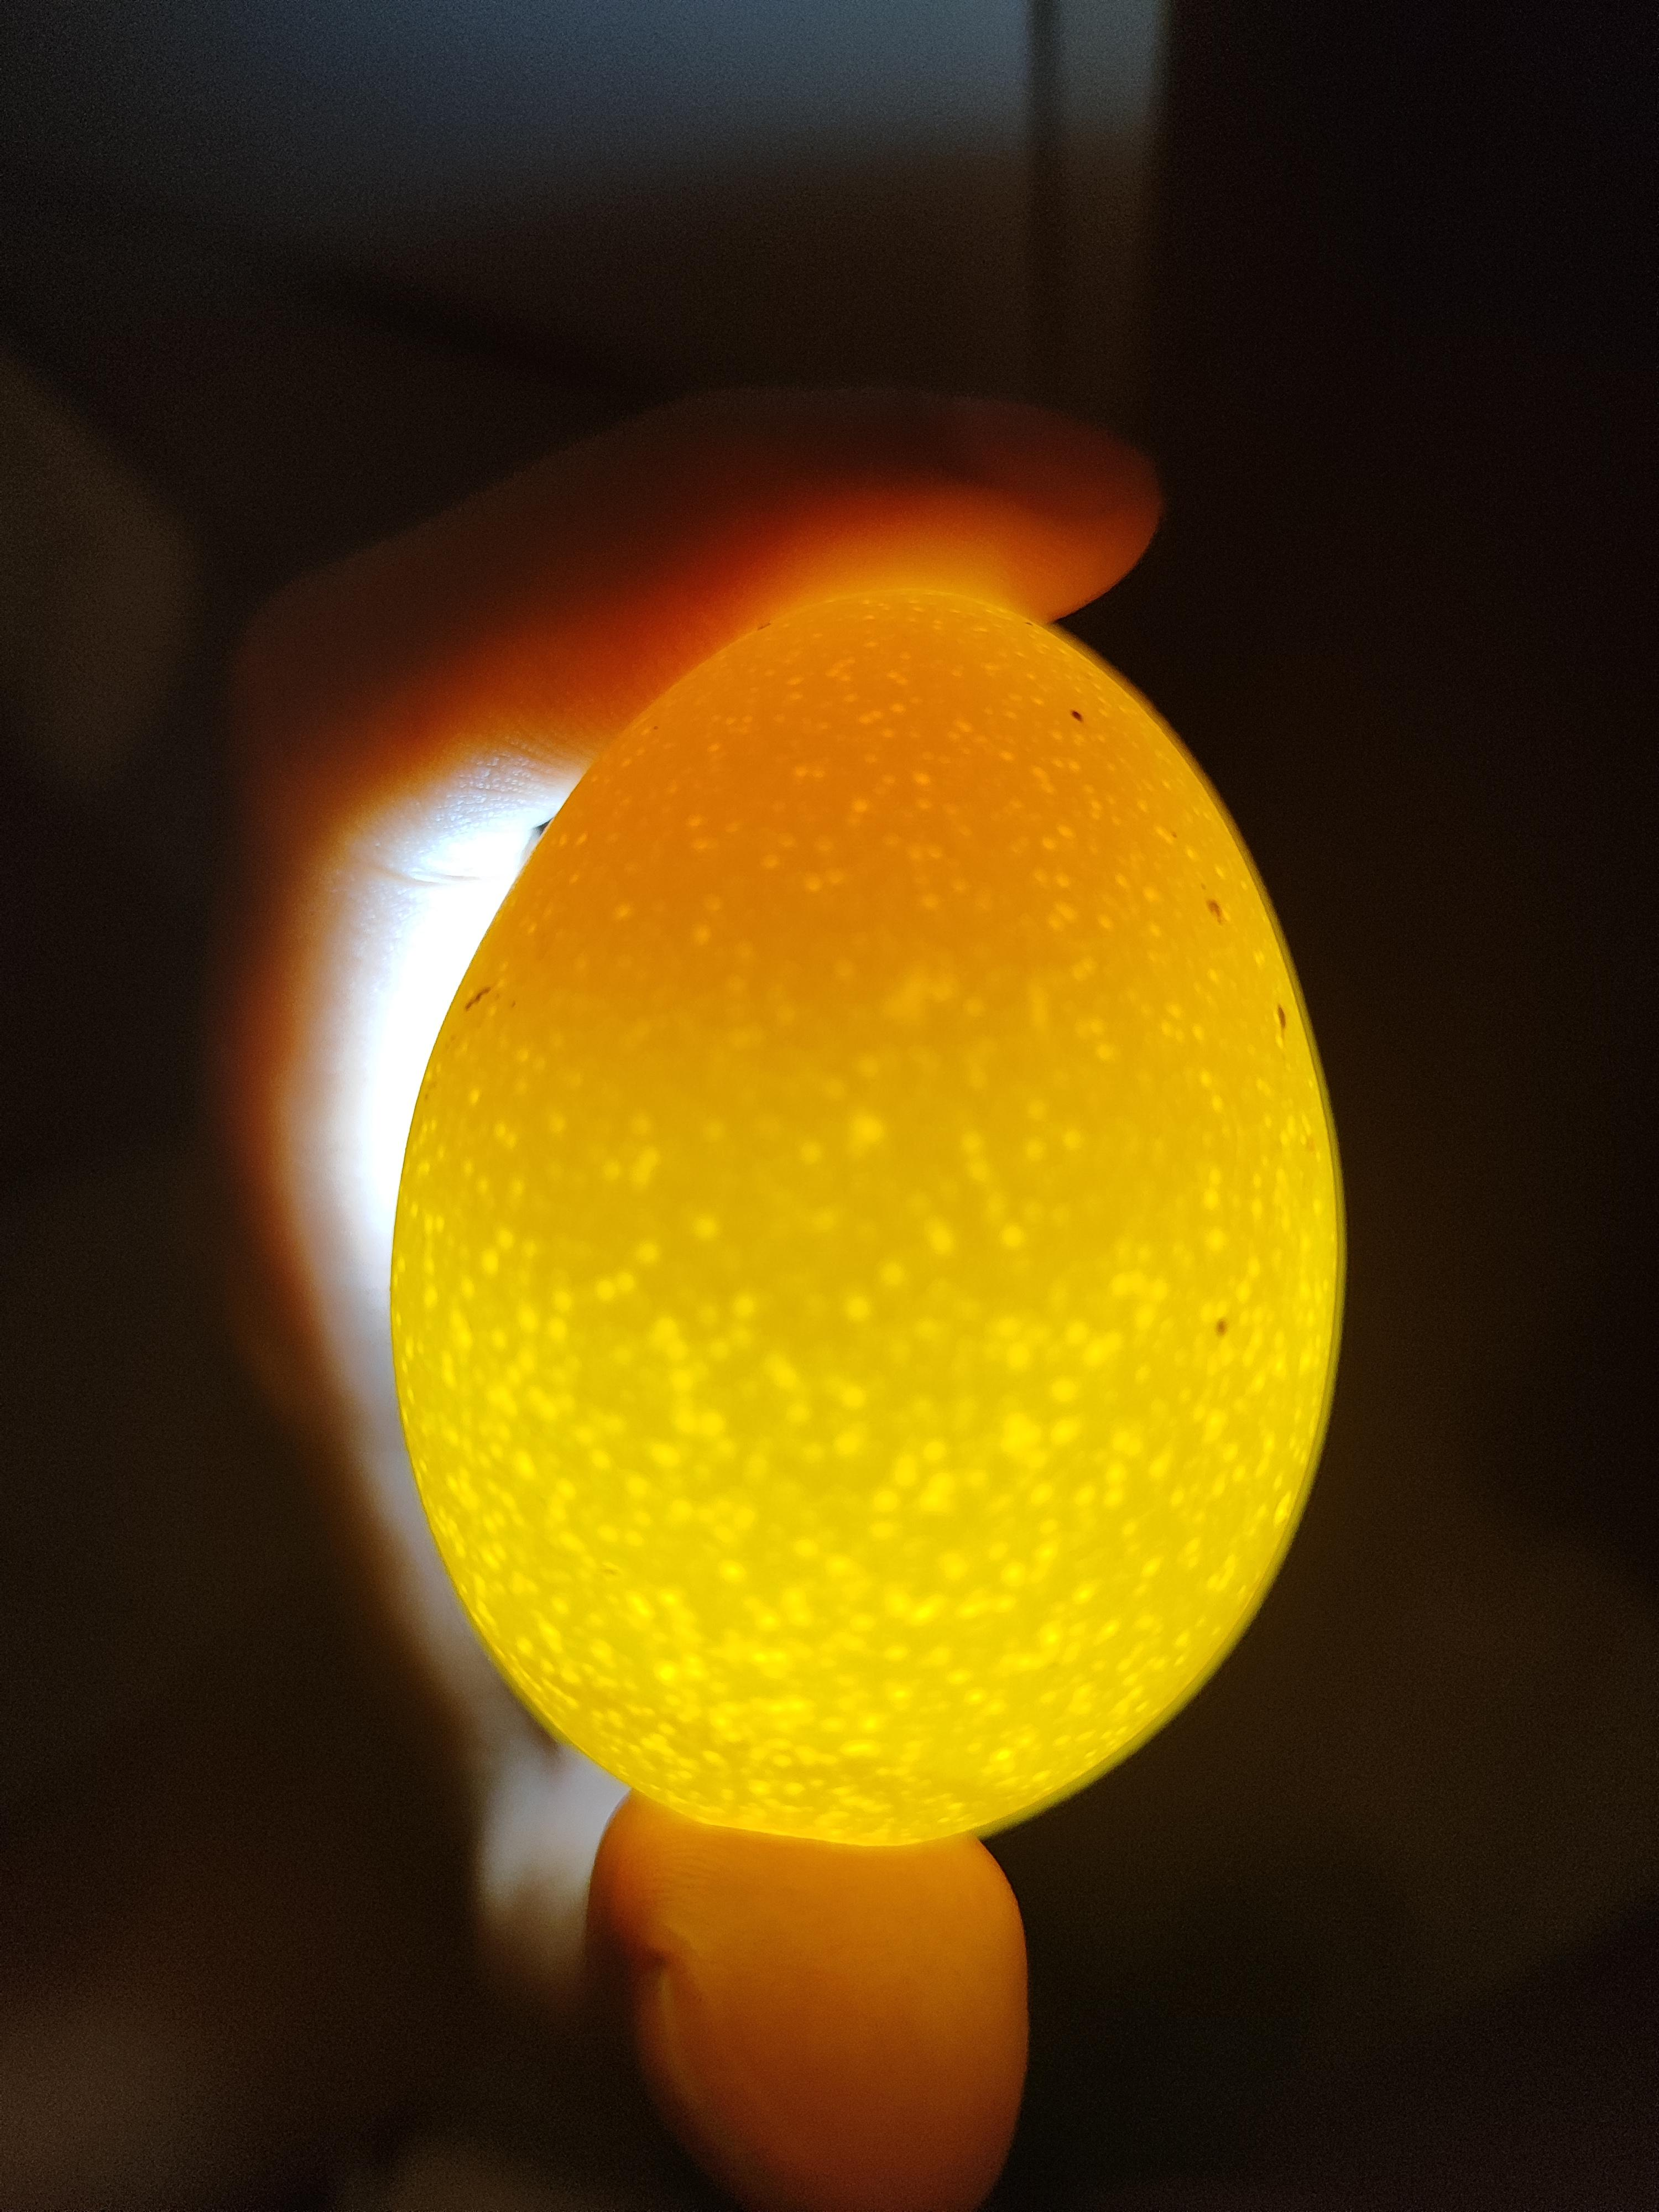A - Good: (376, 553, 1358, 1869)
